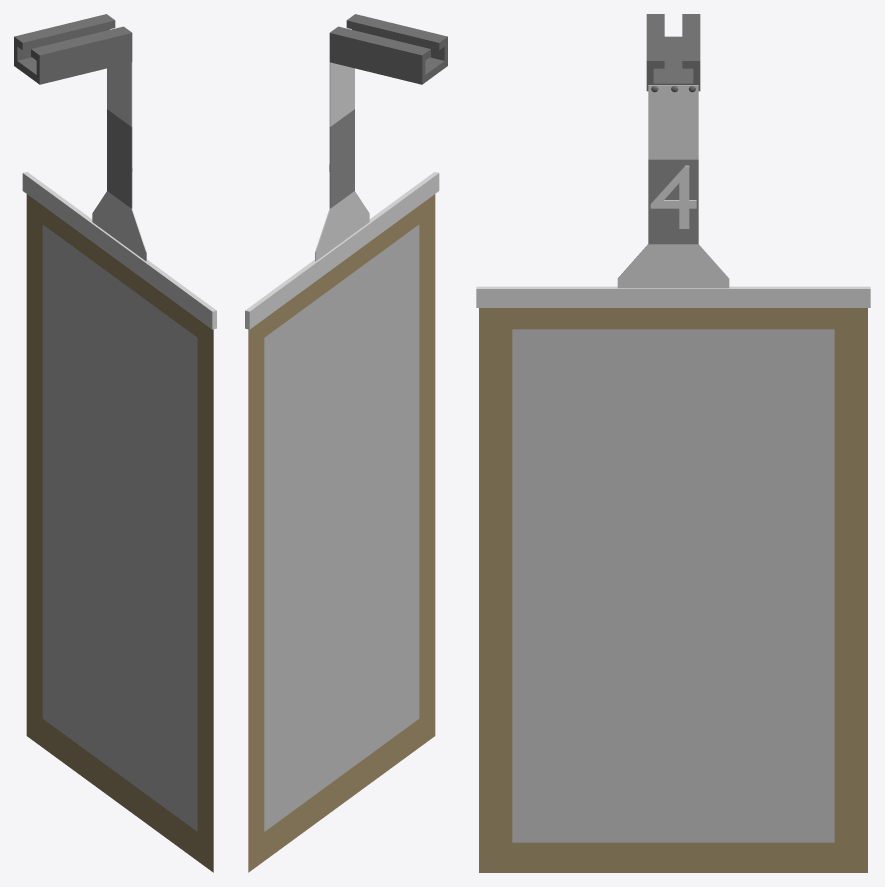
The model's file is Target 4.fbx.
3 renders of one model, left to right at view 1: azimuth 30°, elevation 25°; view 2: azimuth 150°, elevation 25°; view 3: azimuth 270°, elevation 25°, orthographic. The views are drawn at different scales.
Visible parts, largest first — view 1: Target 4; view 2: Target 4; view 3: Target 4.
Boxes of the visible parts, x1,y1,x2,y2 form: Target 4: (14,14,216,872); Target 4: (245,14,447,872); Target 4: (476,14,870,872).
Size of the model in its own units: 20.55 by 161 by 70.94.
